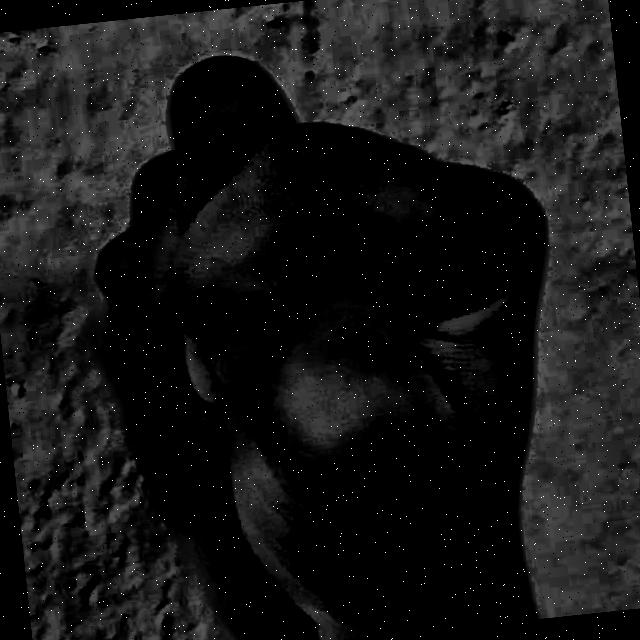Ta: (48, 0, 597, 640)
